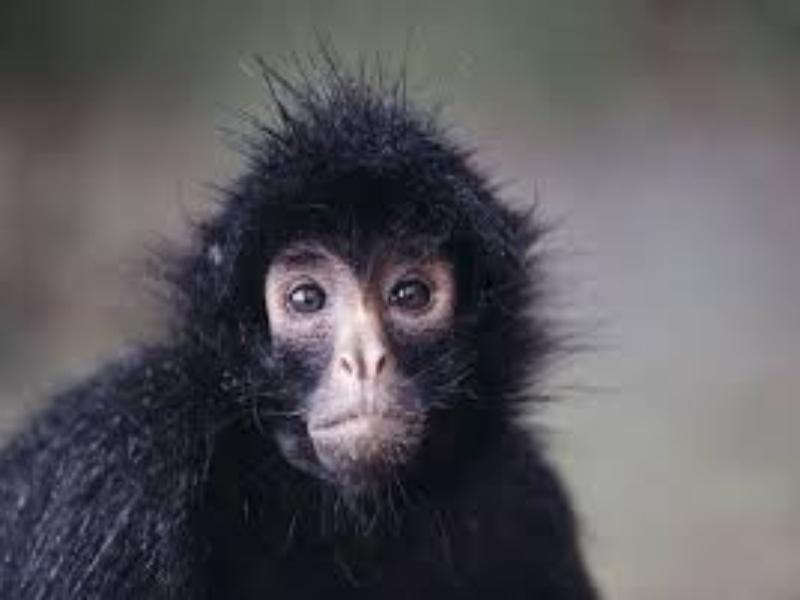monkey: (9, 80, 640, 594)
